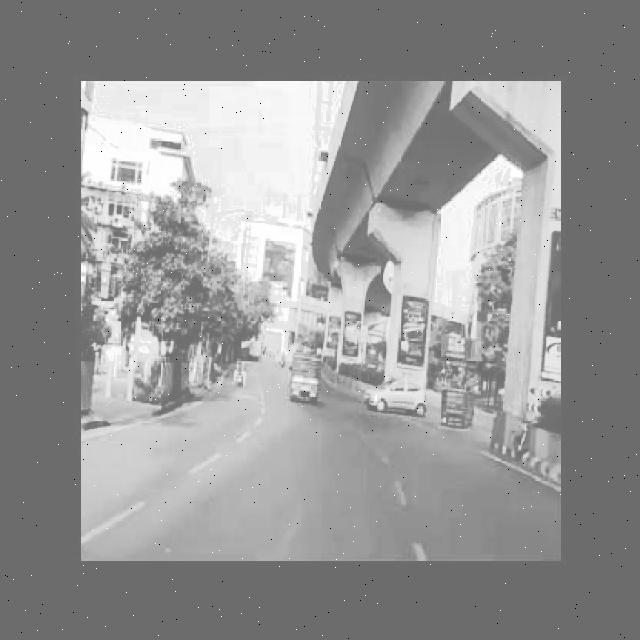Car: (364, 371, 428, 428)
